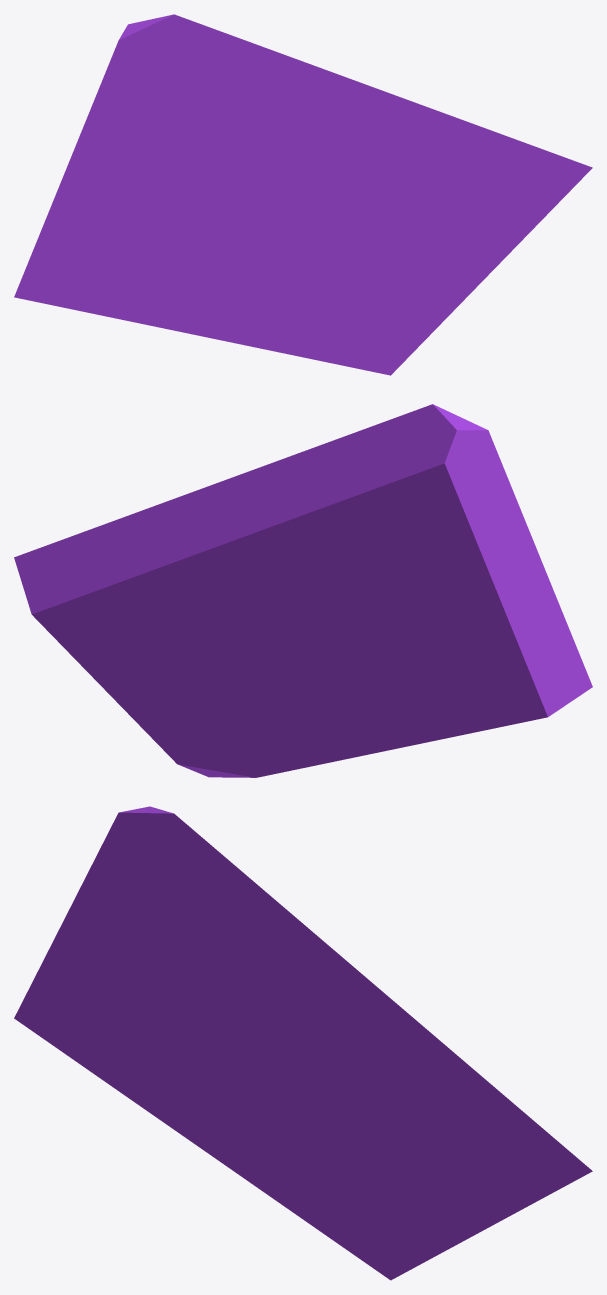
Rendered from Glass_6_3_chunks.fbx.
3 renders of one model, top to bottom at view 1: azimuth 30°, elevation 25°; view 2: azimuth 150°, elevation 25°; view 3: azimuth 330°, elevation 25°, orthographic.
Visible parts, largest first — view 1: Glass_6_3_0; view 2: Glass_6_3_0; view 3: Glass_6_3_0.
Part boxes in pixels (x1,y1,x2,y2): Glass_6_3_0: (14, 14, 592, 375); Glass_6_3_0: (14, 404, 592, 777); Glass_6_3_0: (14, 806, 592, 1280).
Size of the model in its own units: 454 by 314 by 27.2.
